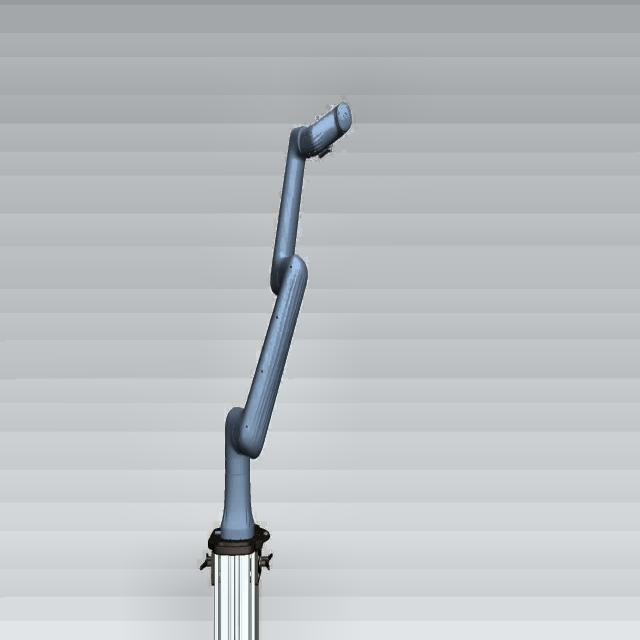robot: (199, 100, 360, 554)
